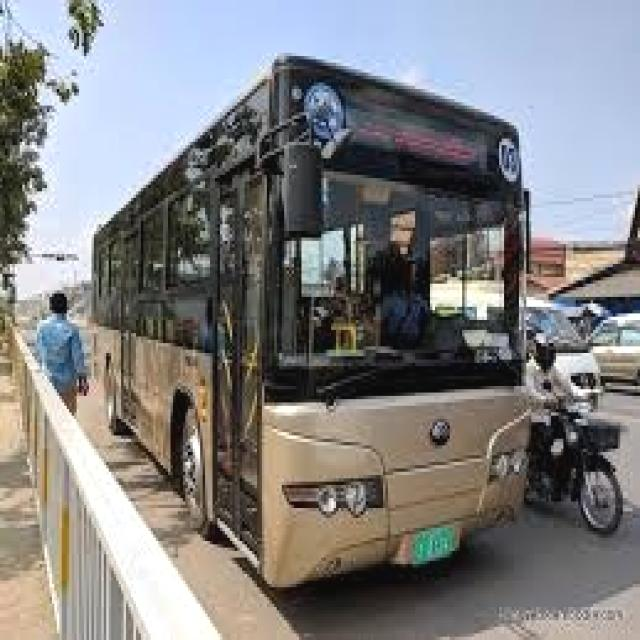bus: (64, 40, 545, 599)
